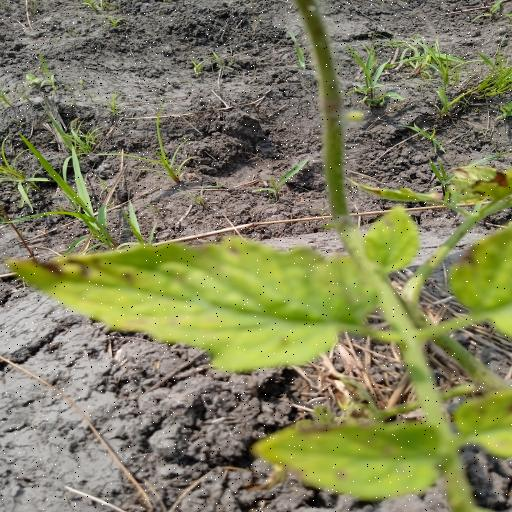Tomato_Brown_Spots: (0, 230, 381, 383)
